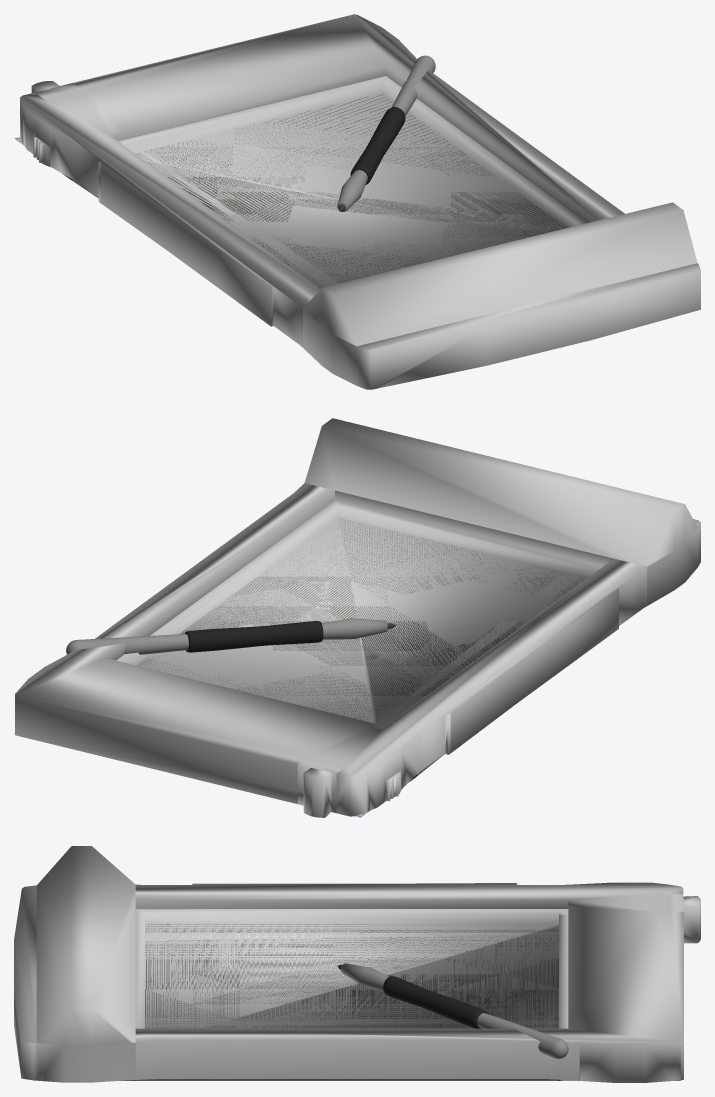
The model's file is Apple+Newton+MessagePad+2000.dae.
3 renders of one model, top to bottom at view 1: azimuth 30°, elevation 25°; view 2: azimuth 150°, elevation 25°; view 3: azimuth 270°, elevation 25°, orthographic. The views are drawn at different scales.
Parts seen in each view (by area): view 1: group_0 (×4), Component_10 (×3); view 2: group_0 (×4), Component_10 (×3); view 3: group_0 (×5), Component_10 (×3).
Part boxes in pixels (bbox=[...]): group_0 (×4): bbox=[20, 14, 700, 389]; Component_10 (×3): bbox=[337, 55, 435, 211]; group_0 (×4): bbox=[15, 418, 700, 817]; Component_10 (×3): bbox=[66, 618, 387, 654]; group_0 (×5): bbox=[14, 846, 700, 1082]; Component_10 (×3): bbox=[340, 963, 568, 1058].
Bounding box in the file's own units: 7.06 × 12.22 × 1.45.
